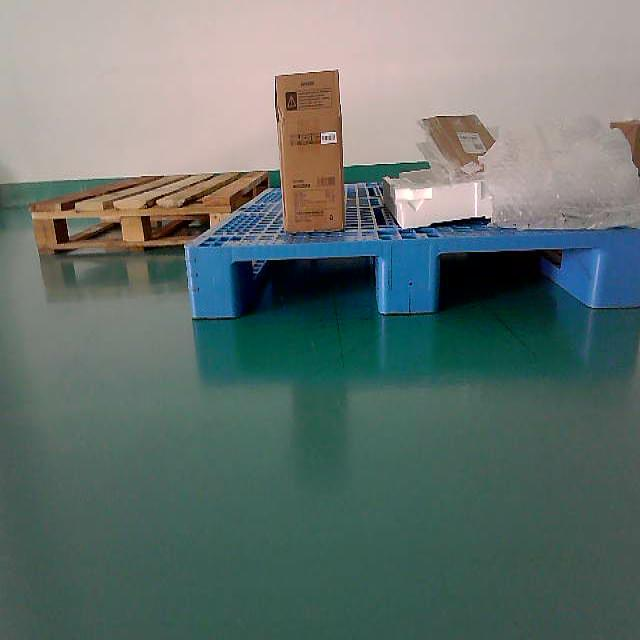euro: (31, 171, 268, 253)
